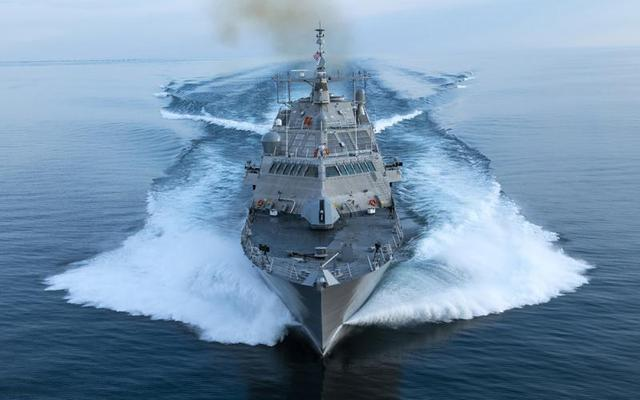warship: (236, 14, 406, 370)
